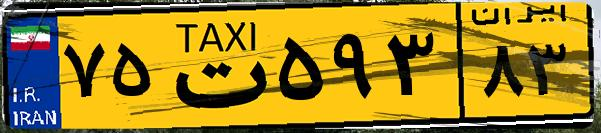3: (385, 28, 445, 110), (525, 38, 570, 115)
5: (270, 28, 330, 110), (110, 28, 158, 98)
7: (57, 26, 110, 100)
8: (475, 38, 525, 113)
9: (330, 28, 385, 110)
ت: (158, 12, 270, 120)
